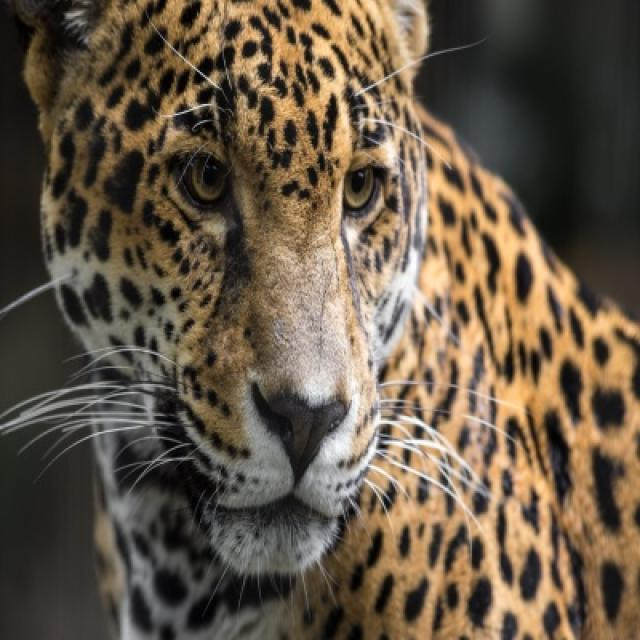Jaguar: (6, 0, 638, 638)
